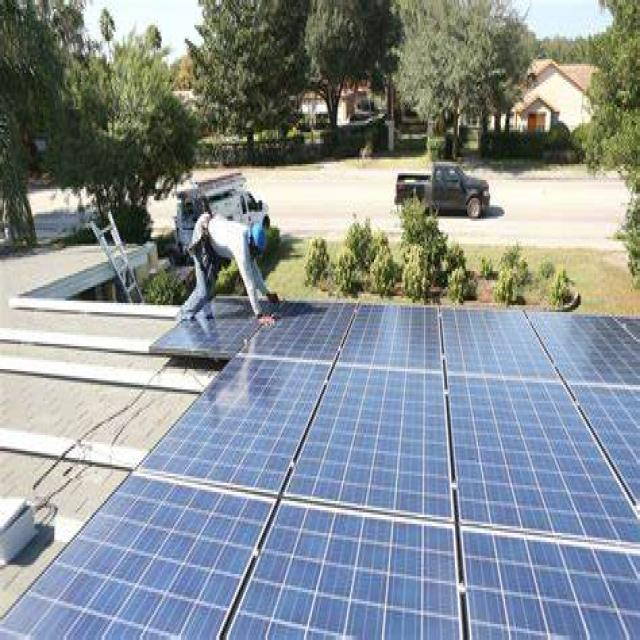clean-solar-panel: (0, 304, 640, 638)
